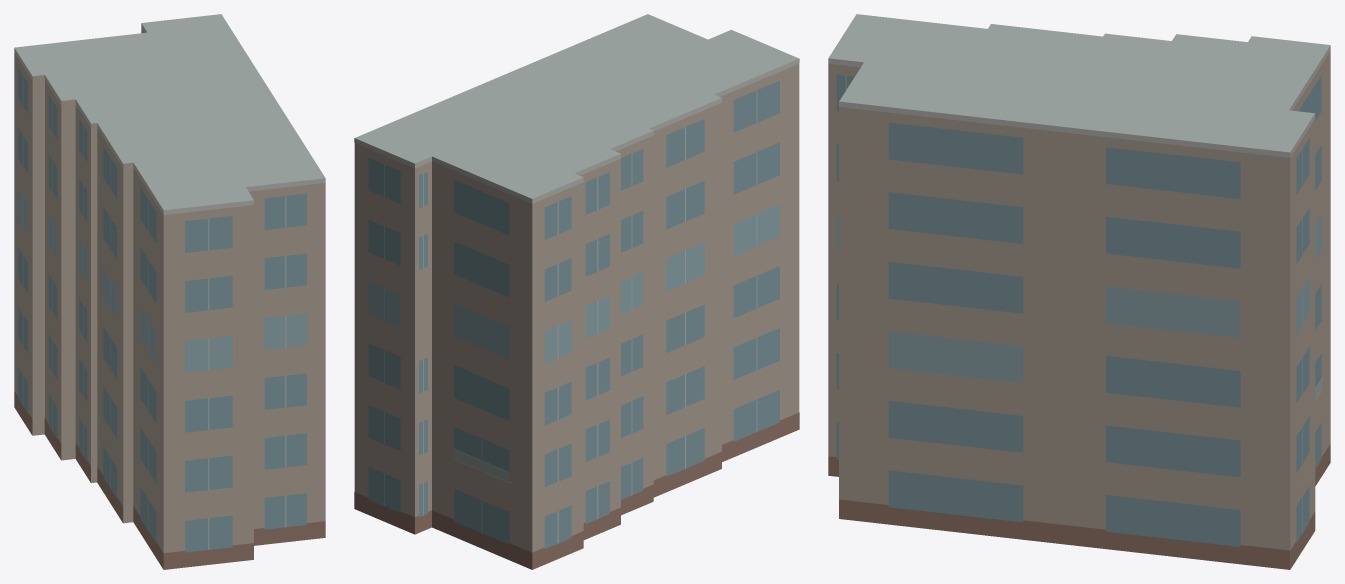
The model's file is survey-upis-32630872.glb.
3 views of the same model, side by side, from view 1: azimuth 30°, elevation 25°; view 2: azimuth 150°, elevation 25°; view 3: azimuth 270°, elevation 25° (orthographic). The views are drawn at different scales.
Parts seen in each view (by area): view 1: survey-upis-32630872.tmp; view 2: survey-upis-32630872.tmp; view 3: survey-upis-32630872.tmp.
Boxes of the visible parts, box(x1,y1,x2,y2) form: survey-upis-32630872.tmp: box(14, 14, 325, 569); survey-upis-32630872.tmp: box(354, 14, 799, 569); survey-upis-32630872.tmp: box(828, 14, 1330, 569).
Size of the model in its own units: 13.32 by 18.7 by 20.41.
